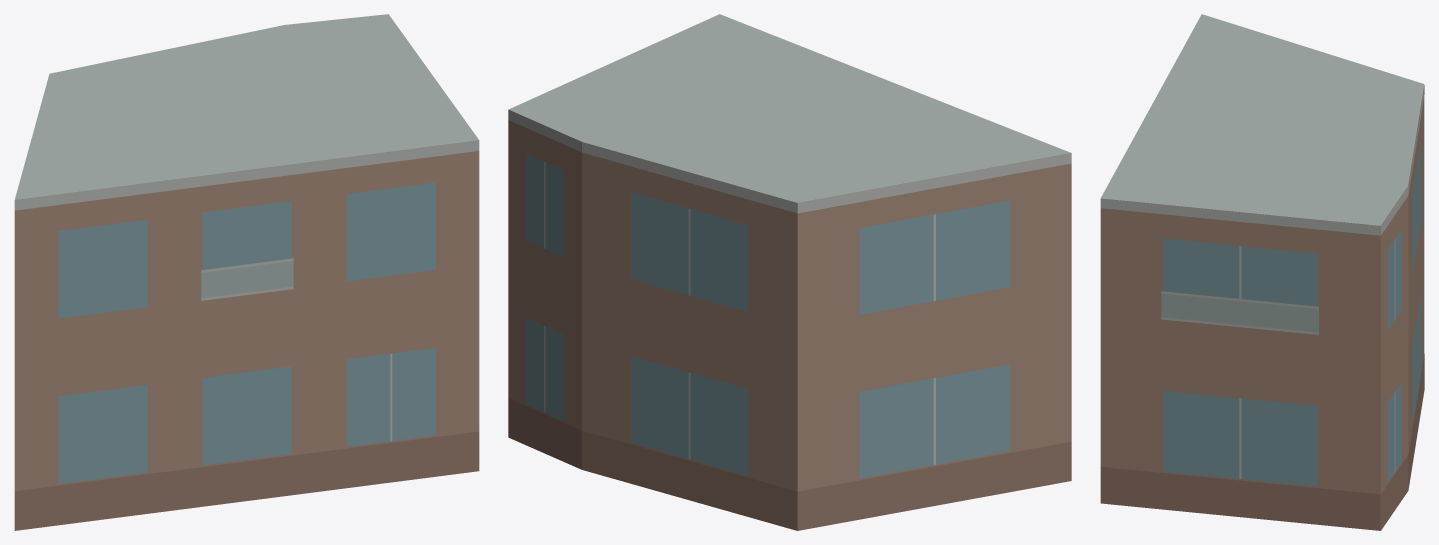
The model's file is survey-upis-32546402.glb.
3 renders of one model, left to right at view 1: azimuth 30°, elevation 25°; view 2: azimuth 150°, elevation 25°; view 3: azimuth 270°, elevation 25°, orthographic. The views are drawn at different scales.
Parts seen in each view (by area): view 1: survey-upis-32546402.tmp; view 2: survey-upis-32546402.tmp; view 3: survey-upis-32546402.tmp.
Boxes of the visible parts, bbox=[...] form: survey-upis-32546402.tmp: bbox=[14, 14, 479, 530]; survey-upis-32546402.tmp: bbox=[508, 14, 1071, 530]; survey-upis-32546402.tmp: bbox=[1100, 14, 1424, 530].
Size of the model in its own units: 11.34 by 7.6 by 7.33.
